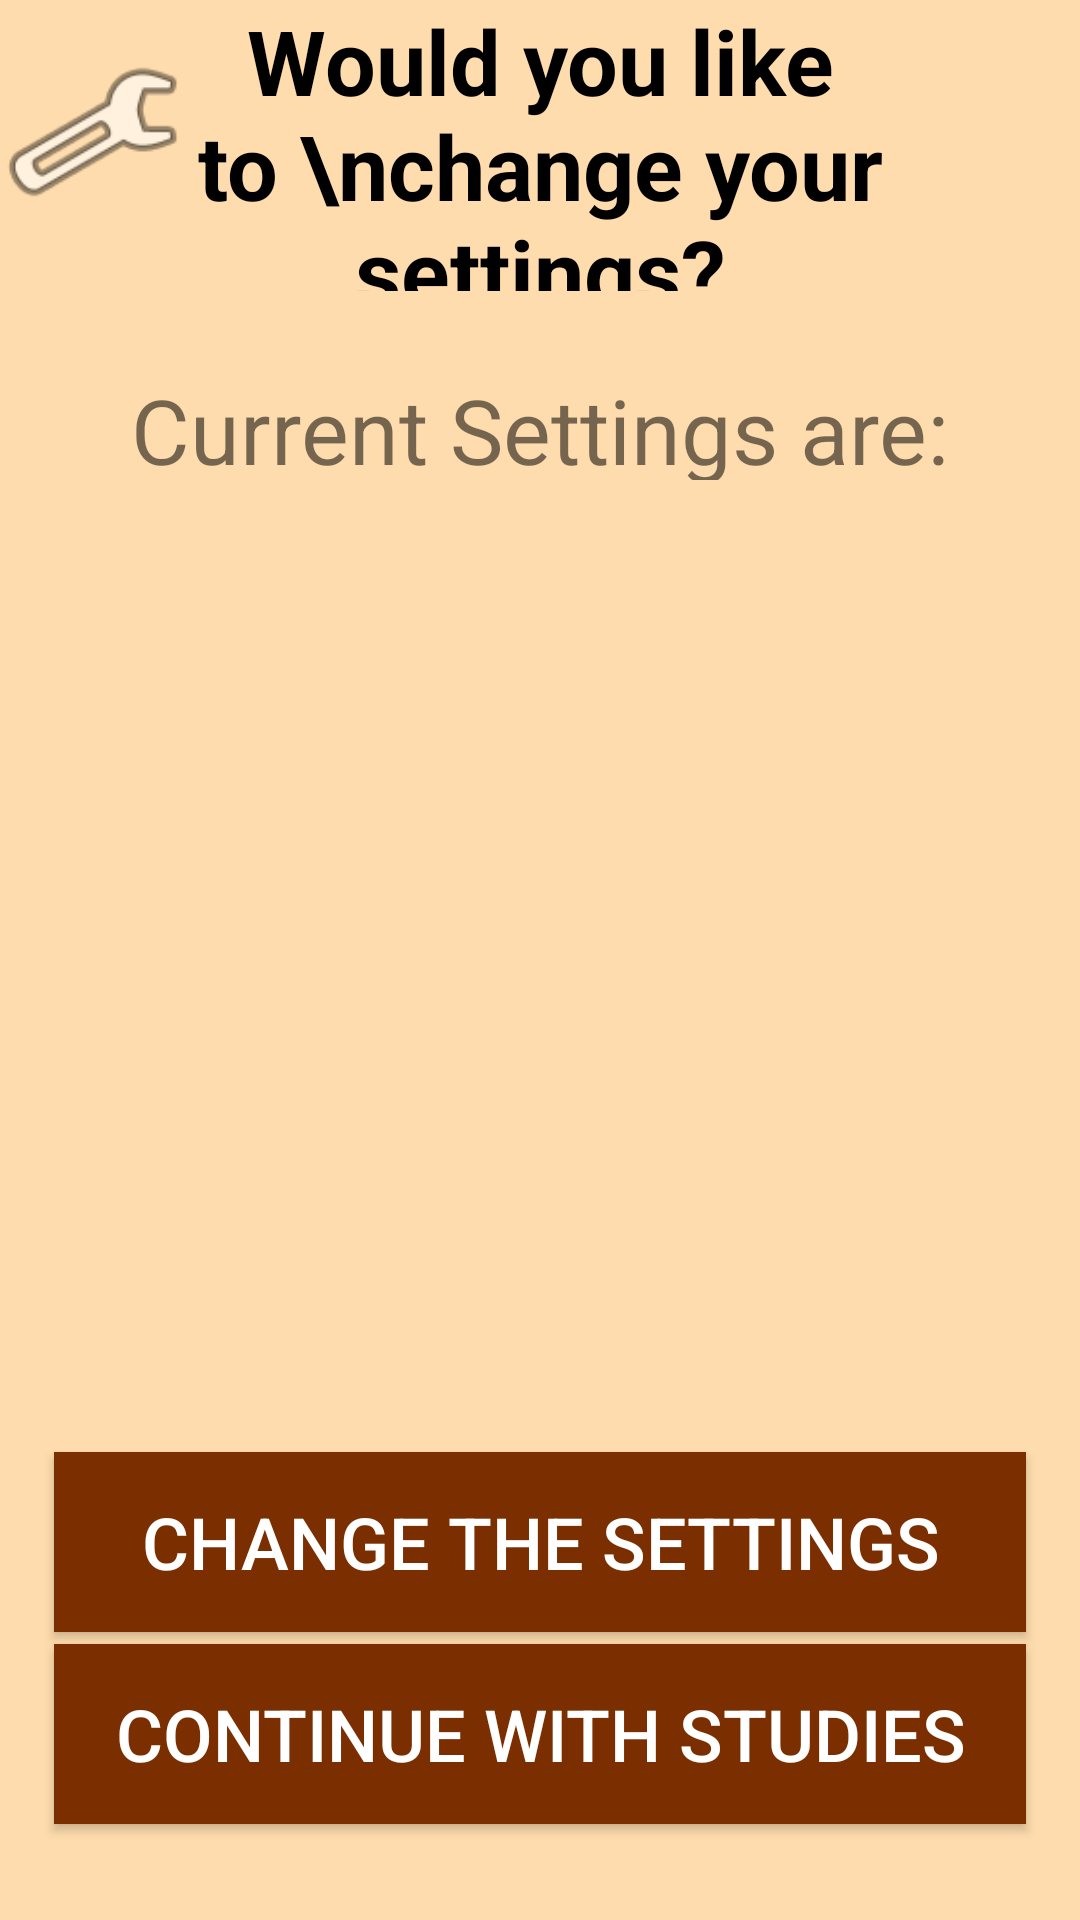

Screen size 1080x1920. Icon name, then its box in pixels as (x1, y1, x2, y2):
preferences: (9, 68, 177, 196)
